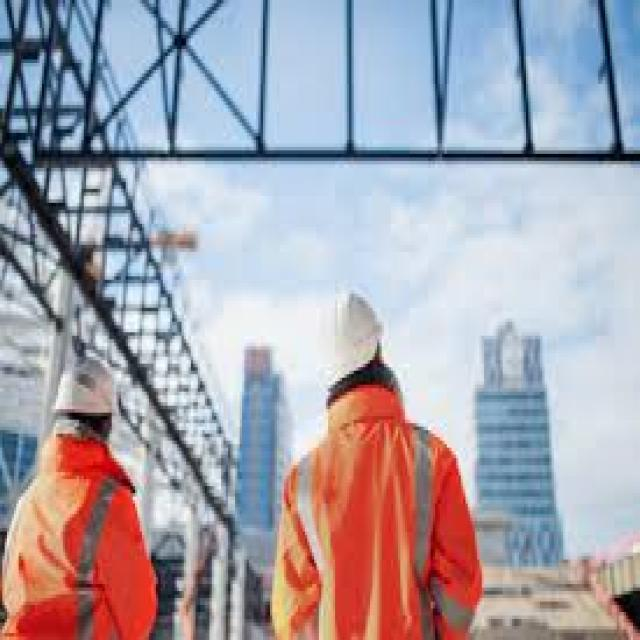Reflective-Jacket: (265, 388, 477, 640), (0, 430, 161, 637)
Safety-Helmet: (319, 276, 398, 388), (44, 349, 128, 434)
